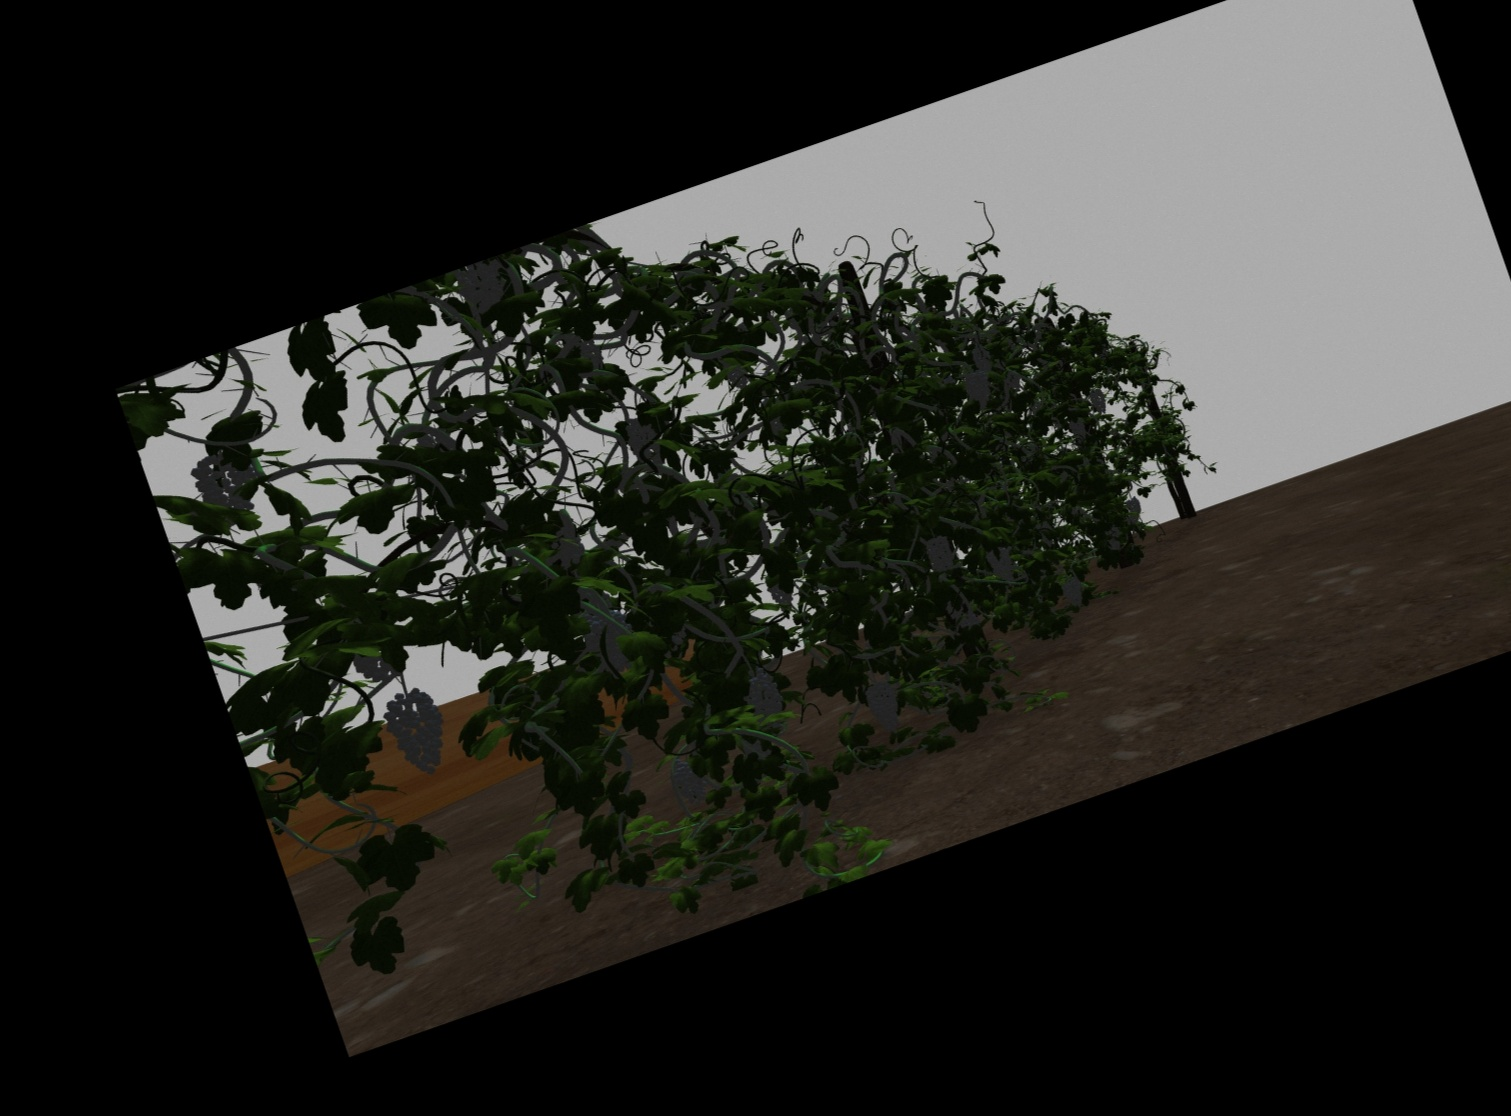grape: (389, 691, 445, 773), (194, 455, 248, 513), (587, 613, 633, 674), (454, 269, 503, 314), (744, 668, 781, 721), (673, 757, 709, 811), (548, 510, 581, 567), (868, 681, 903, 732), (626, 415, 659, 465), (988, 545, 1015, 586), (928, 537, 954, 574), (1061, 571, 1084, 608), (965, 372, 989, 407), (974, 345, 992, 377), (580, 339, 601, 367), (1070, 417, 1087, 445), (1090, 388, 1107, 414), (1038, 520, 1053, 548), (946, 598, 963, 621), (958, 613, 980, 629), (1126, 498, 1141, 519), (1107, 527, 1120, 552), (1005, 370, 1019, 391)
